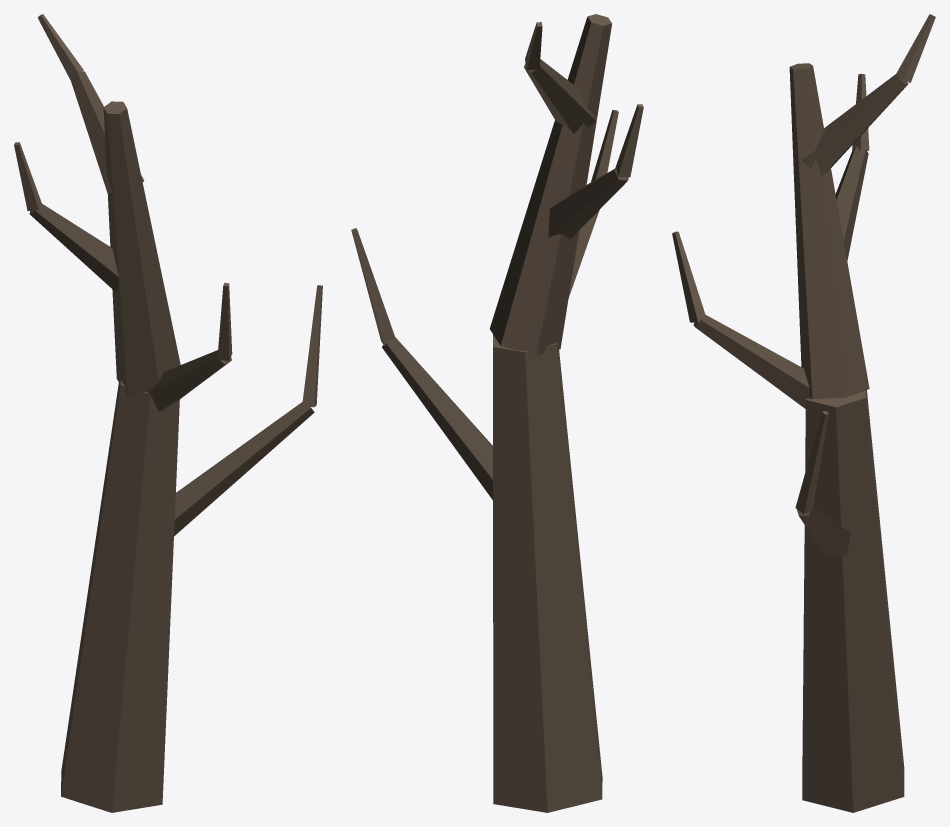
File: dead_tree.glb
The picture shows the model from 3 angles, left to right: view 1: azimuth 30°, elevation 25°; view 2: azimuth 150°, elevation 25°; view 3: azimuth 270°, elevation 25°; orthographic projection. The views are drawn at different scales.
Parts seen in each view (by area): view 1: dead_tree2; view 2: dead_tree2; view 3: dead_tree2.
Part boxes in pixels (x1,y1,x2,y2): dead_tree2: [14, 14, 322, 812]; dead_tree2: [351, 14, 643, 812]; dead_tree2: [672, 14, 935, 812].
Size of the model in its own units: 1.94 by 4.83 by 1.52.
